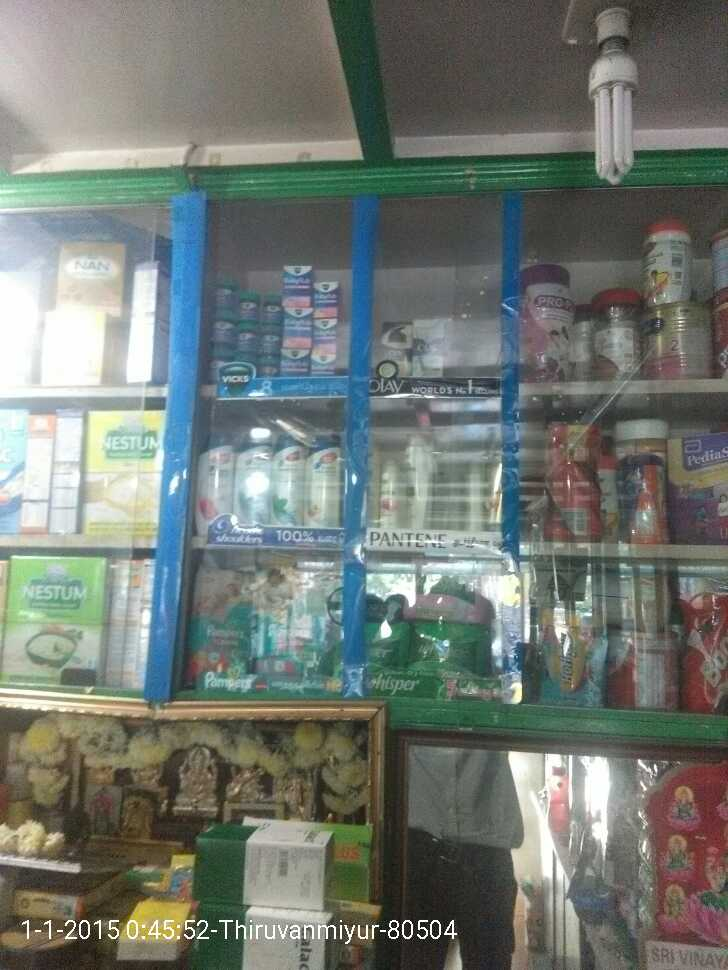vicks: (214, 260, 334, 376)
